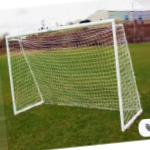goals: (3, 17, 142, 132)
